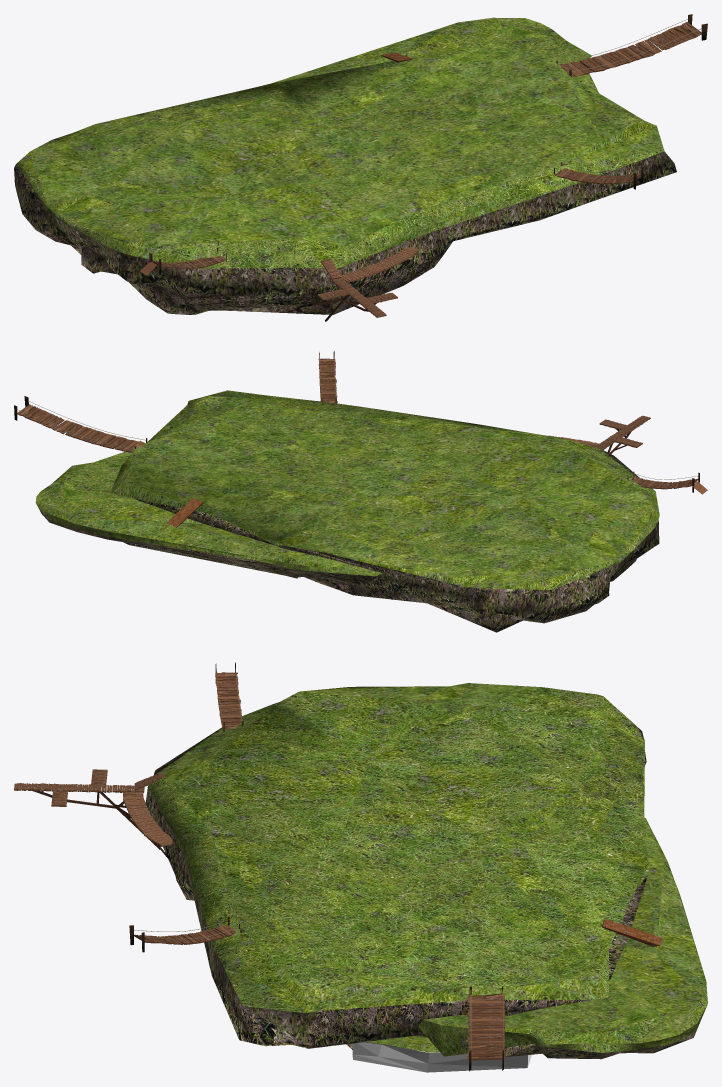
Rendered from ChinampaB.obj.
The picture shows the model from 3 angles, top to bottom: view 1: azimuth 30°, elevation 25°; view 2: azimuth 150°, elevation 25°; view 3: azimuth 270°, elevation 25°; orthographic projection. The views are drawn at different scales.
Parts seen in each view (by area): view 1: defaultMaterial.001, defaultMaterial, defaultMaterial.005, defaultMaterial.008, defaultMaterial.023, defaultMaterial.019, defaultMaterial.011; view 2: defaultMaterial.001, defaultMaterial.005, defaultMaterial, defaultMaterial.004, defaultMaterial.023, defaultMaterial.008, defaultMaterial.019, defaultMaterial.009; view 3: defaultMaterial.001, defaultMaterial.005, defaultMaterial, defaultMaterial.008, defaultMaterial.002, defaultMaterial.023, defaultMaterial.004, defaultMaterial.019, defaultMaterial.009, defaultMaterial.003.
Part boxes in pixels (x1,y1,x2,y2): defaultMaterial.001: (16, 43, 664, 268); defaultMaterial: (14, 151, 676, 314); defaultMaterial.005: (263, 17, 598, 92); defaultMaterial.008: (152, 247, 419, 317); defaultMaterial.023: (559, 21, 702, 76); defaultMaterial.019: (555, 168, 641, 184); defaultMaterial.011: (149, 247, 407, 321); defaultMaterial.001: (111, 390, 659, 589); defaultMaterial.005: (35, 451, 381, 576); defaultMaterial: (135, 448, 659, 632); defaultMaterial.004: (39, 510, 379, 585); defaultMaterial.023: (16, 404, 145, 452); defaultMaterial.008: (548, 415, 698, 489); defaultMaterial.019: (318, 358, 337, 403); defaultMaterial.009: (166, 481, 707, 527); defaultMaterial.001: (148, 683, 649, 1013); defaultMaterial.005: (418, 817, 707, 1056); defaultMaterial: (145, 726, 647, 1050); defaultMaterial.008: (14, 672, 243, 846); defaultMaterial.002: (352, 1042, 531, 1072); defaultMaterial.023: (466, 993, 505, 1060); defaultMaterial.004: (450, 1014, 703, 1059); defaultMaterial.019: (134, 925, 235, 944); defaultMaterial.009: (221, 672, 662, 946); defaultMaterial.003: (367, 1036, 439, 1052).
Size of the model in its own units: 290 by 40.25 by 213.
9 materials, 8 textured.
